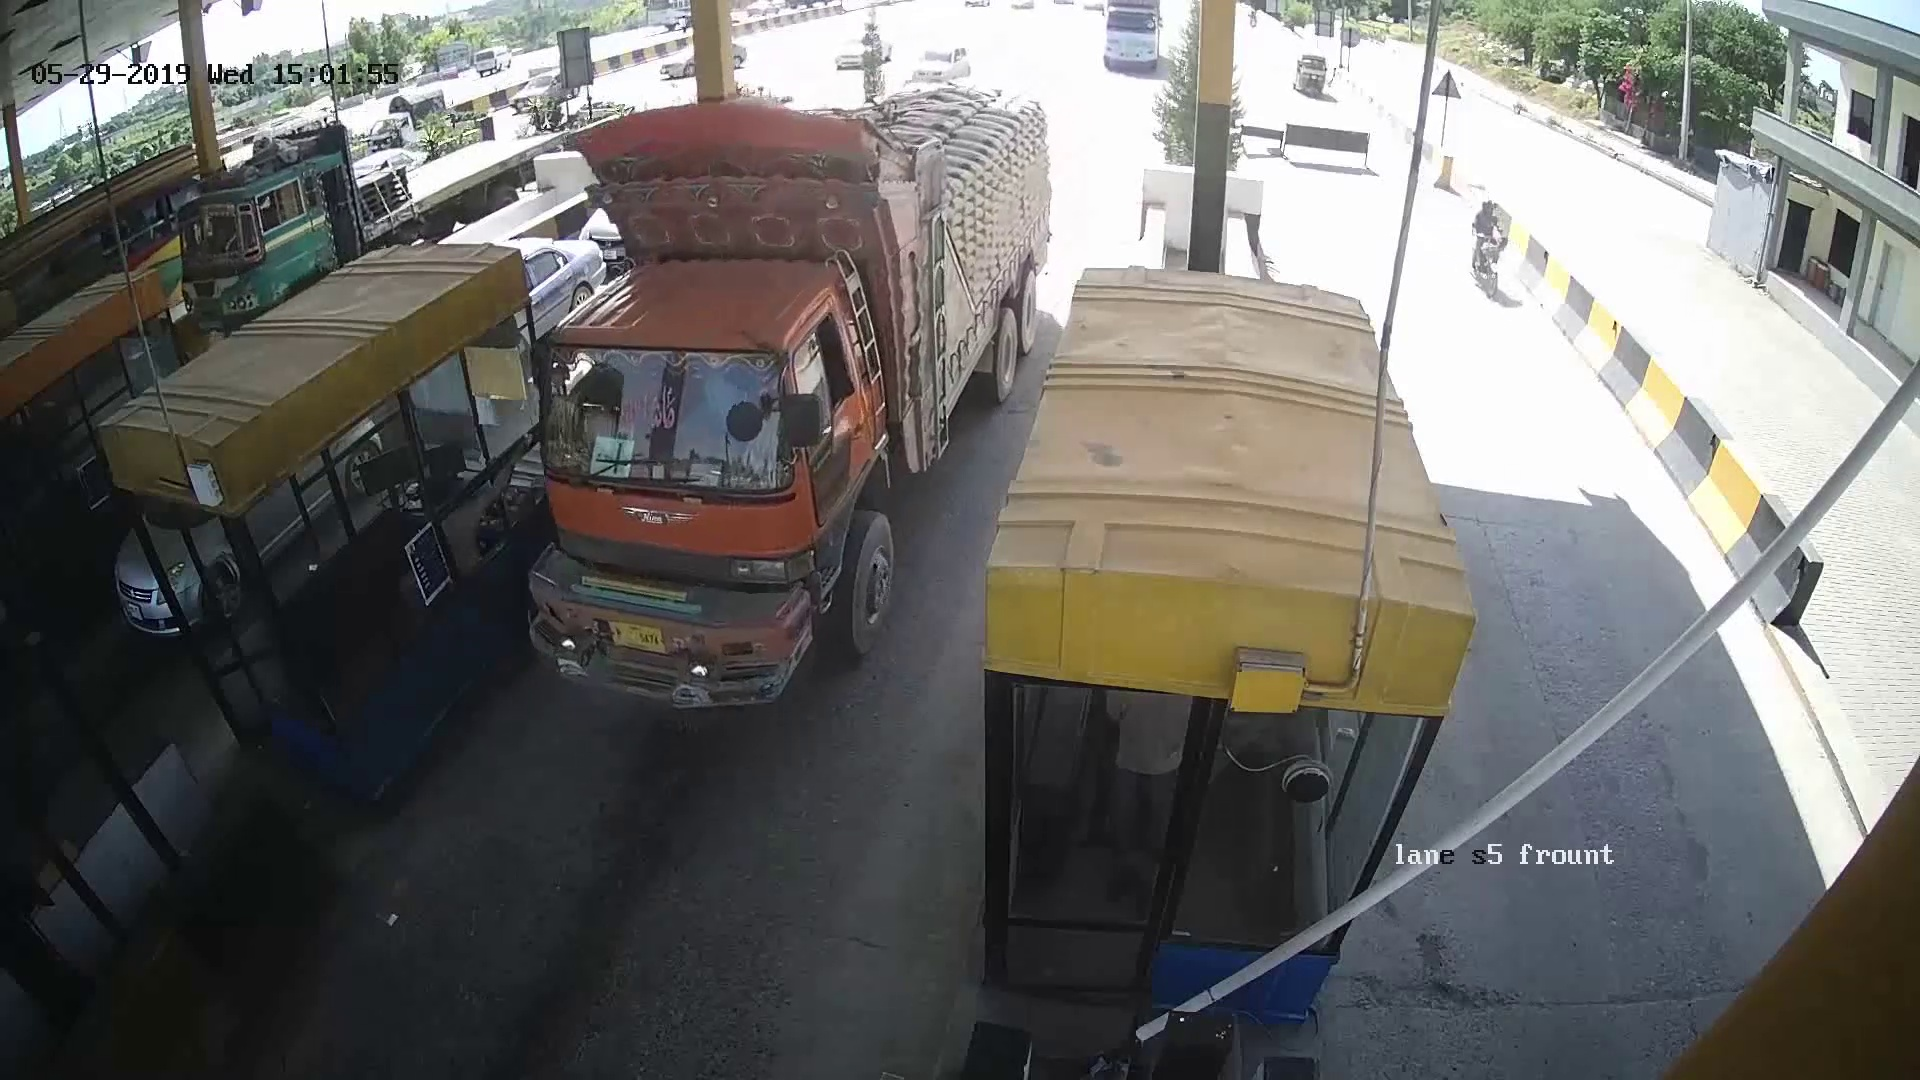truck: (545, 113, 922, 723)
